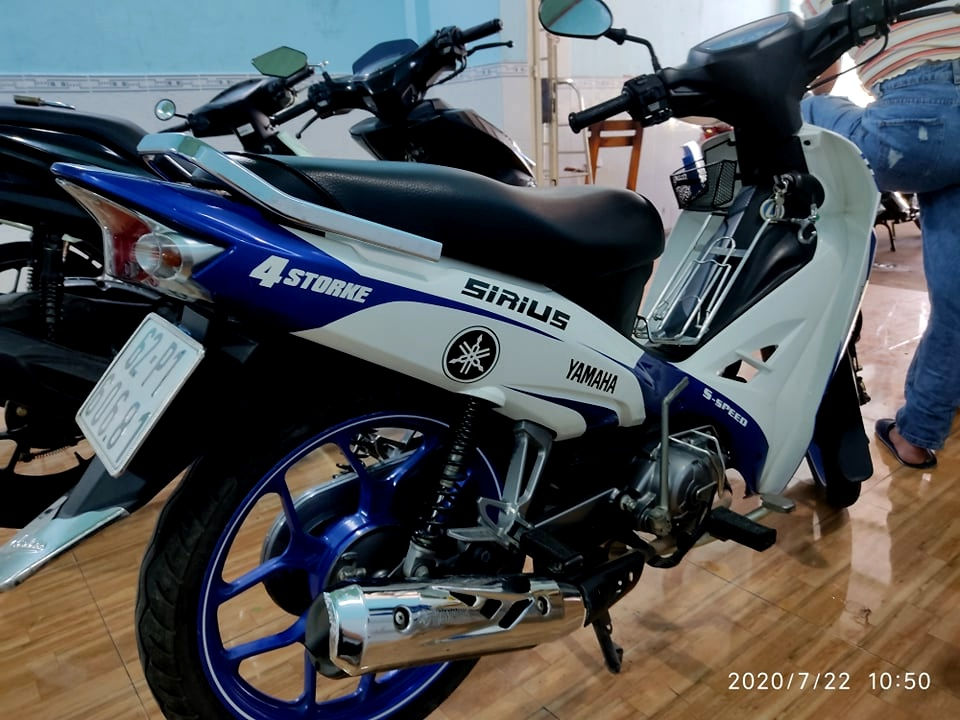Bien-so: (81, 331, 229, 495)
